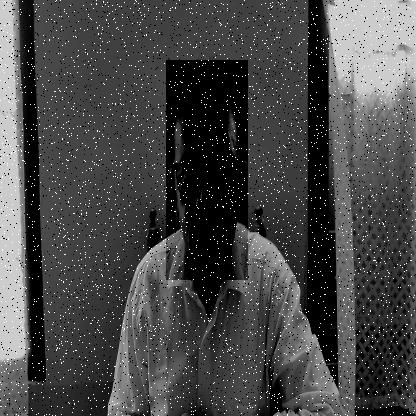Normal: (166, 60, 248, 280)
